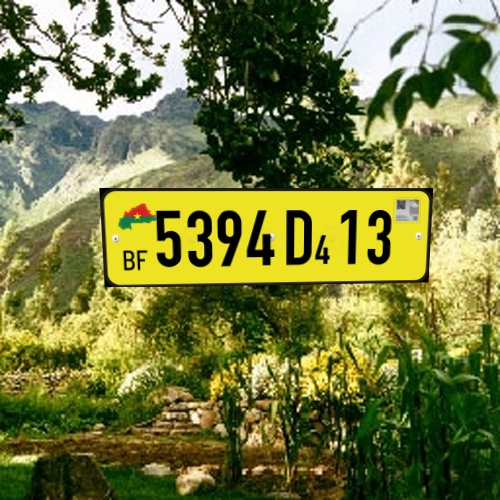plate: (87, 176, 447, 294)
